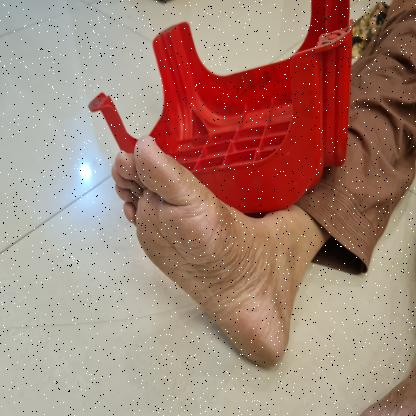leg: (103, 128, 330, 378)
